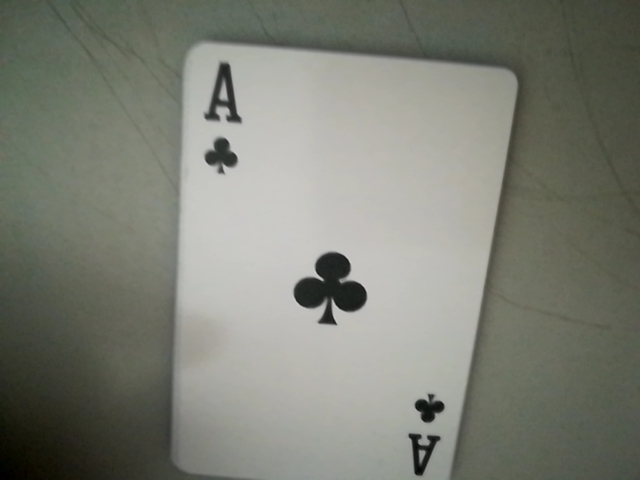mh a: (185, 52, 248, 182), (403, 387, 453, 479)
